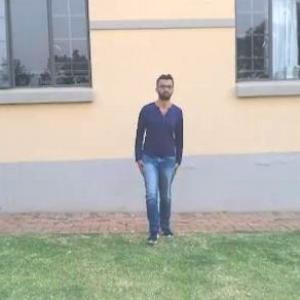follow: (126, 59, 194, 269)
